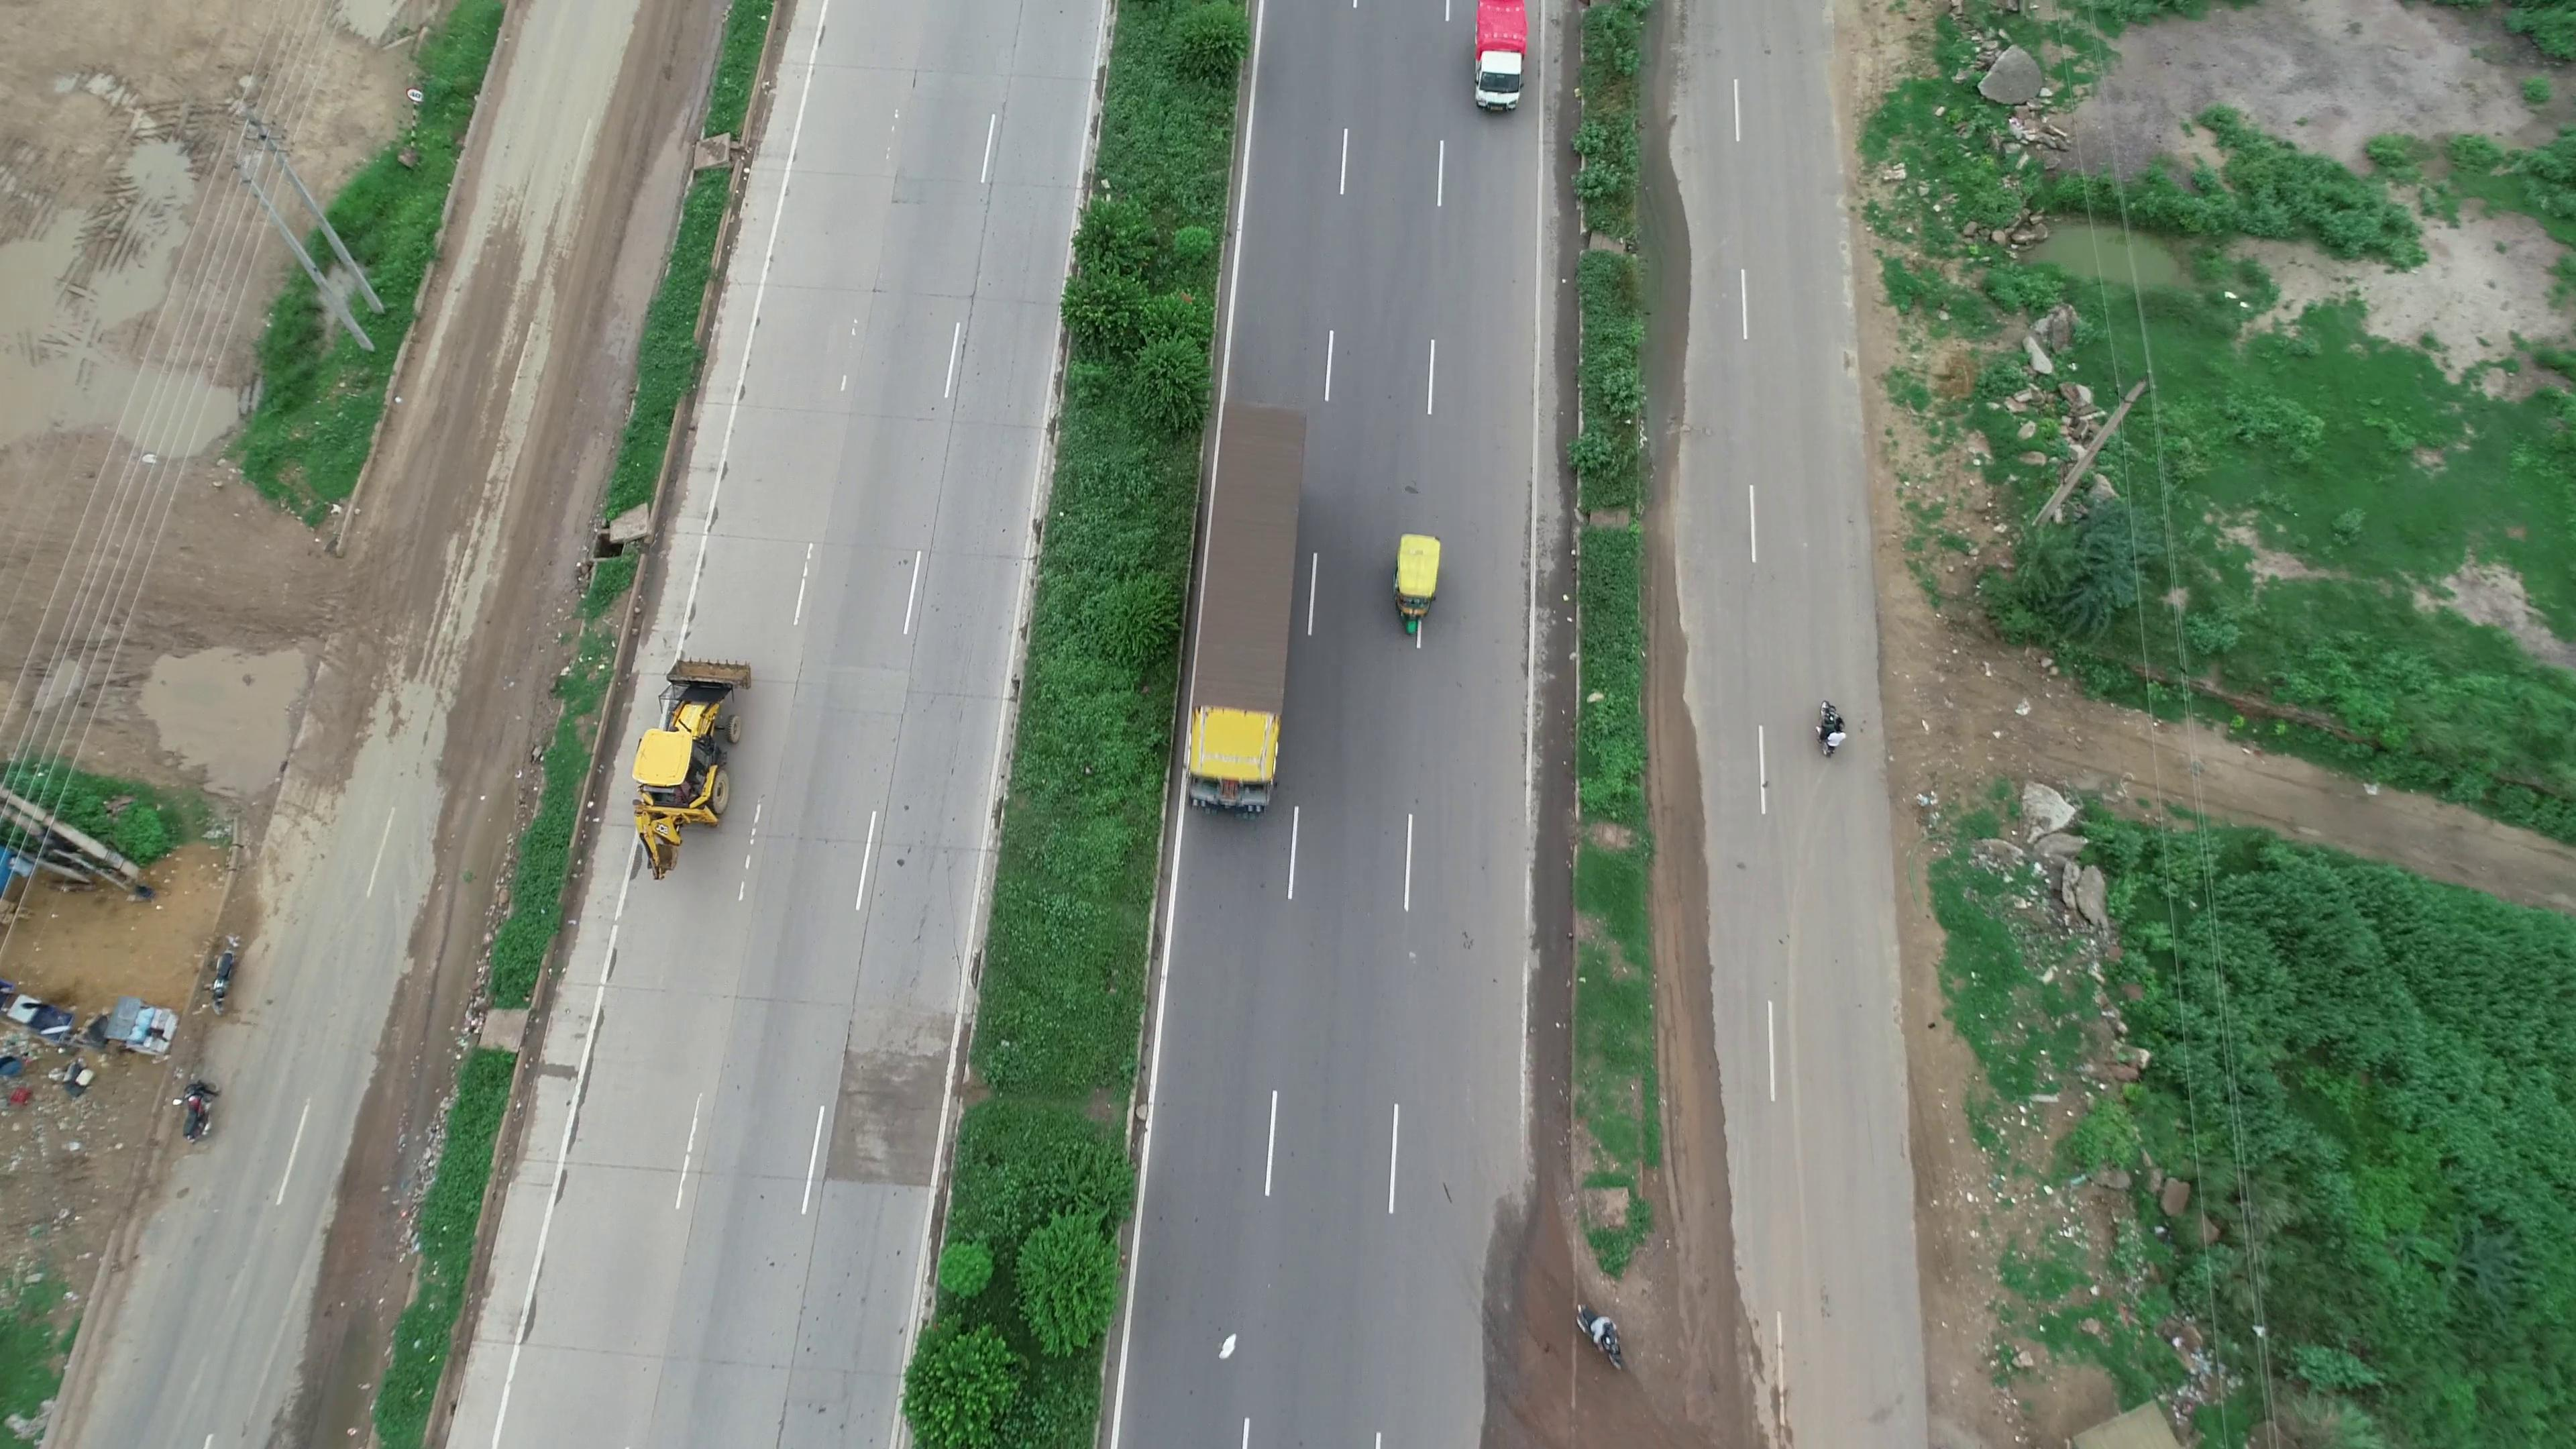Muddy_road: (455, 299, 635, 625), (545, 12, 702, 278), (1674, 1099, 1780, 1442), (403, 681, 541, 943)
